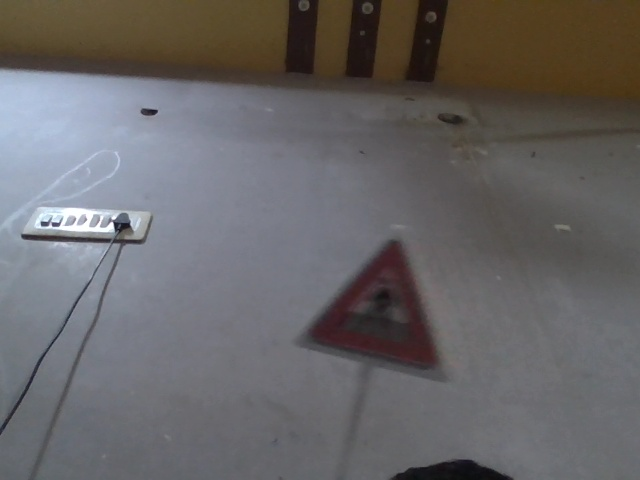crossing: (285, 210, 436, 367)
